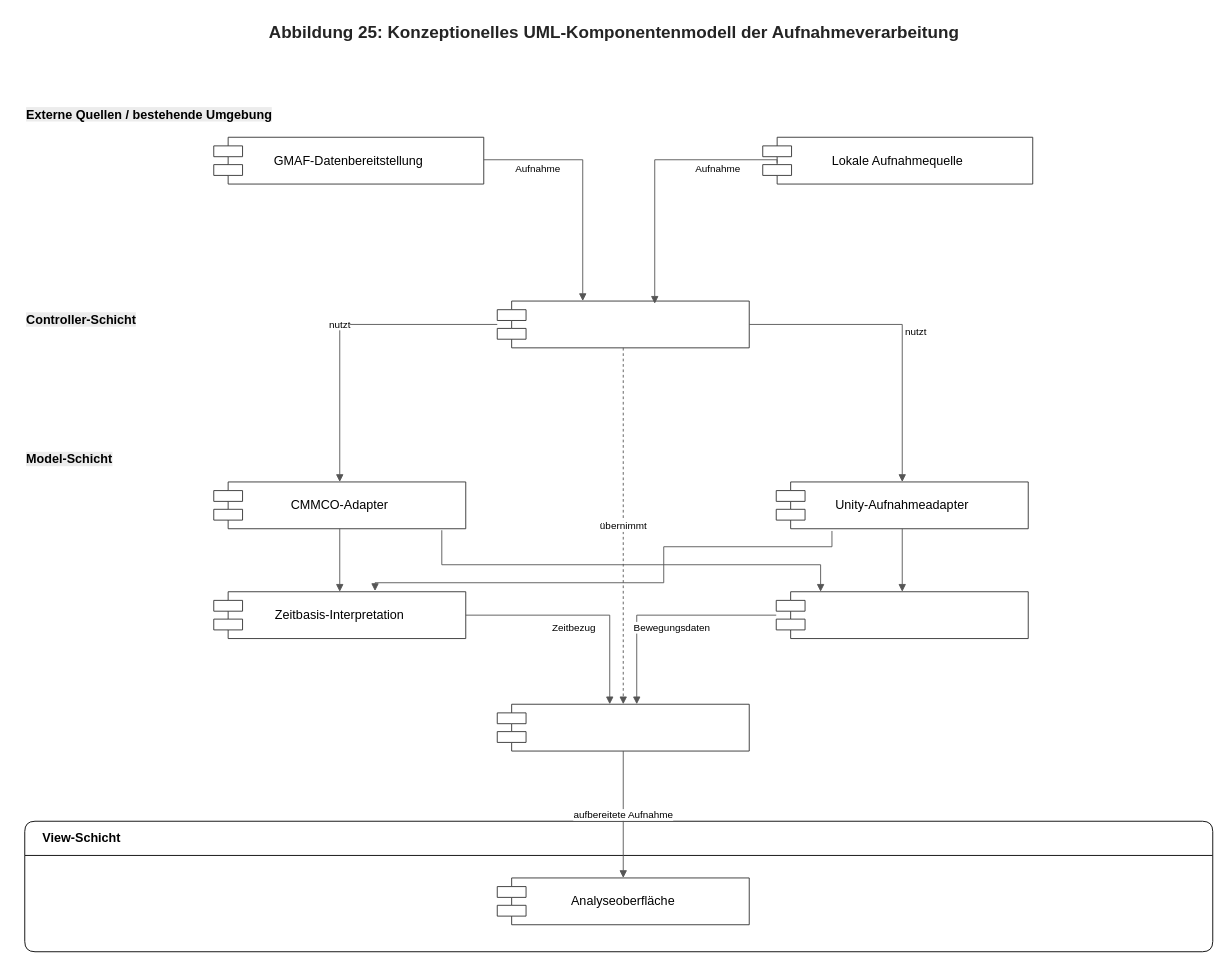
This 1229x968 diagram has some shape labels left out. The centre of each missing label's shape, as x and y in pixels:
"Aufnahmecontainer" goes at (x=622, y=727).
"Aufnahmeverwaltung" goes at (x=622, y=324).
"Bewegungsdatenmodell" goes at (x=901, y=615).
